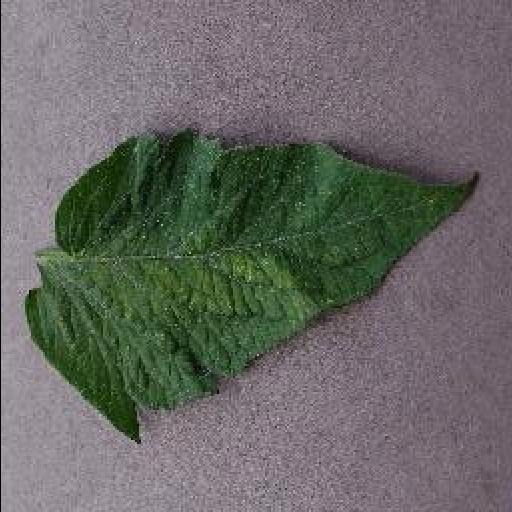disease_tomato: (24, 129, 486, 447)
